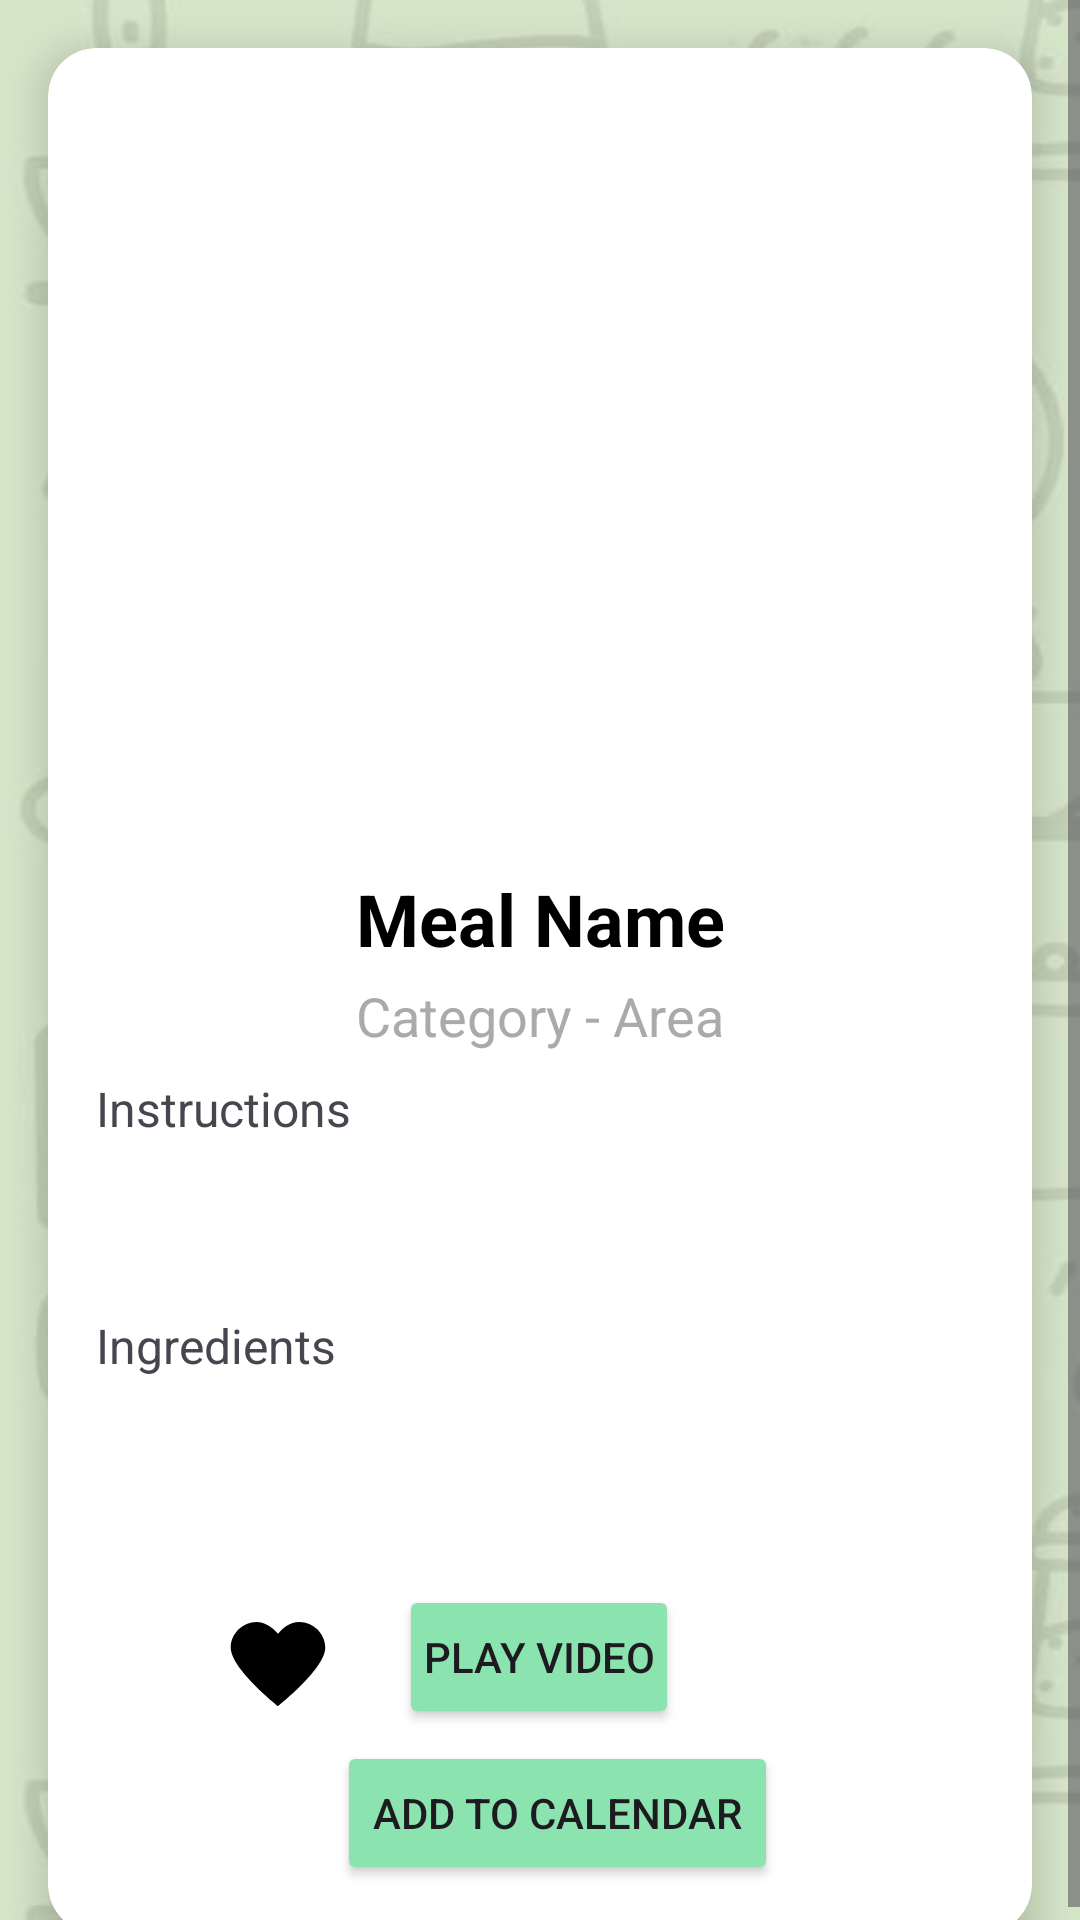

Screen size 1080w x 1920h. Icon name, then its box in pixels as region(x1, y1, x2, y2):
favorite: region(230, 1622, 326, 1706)
